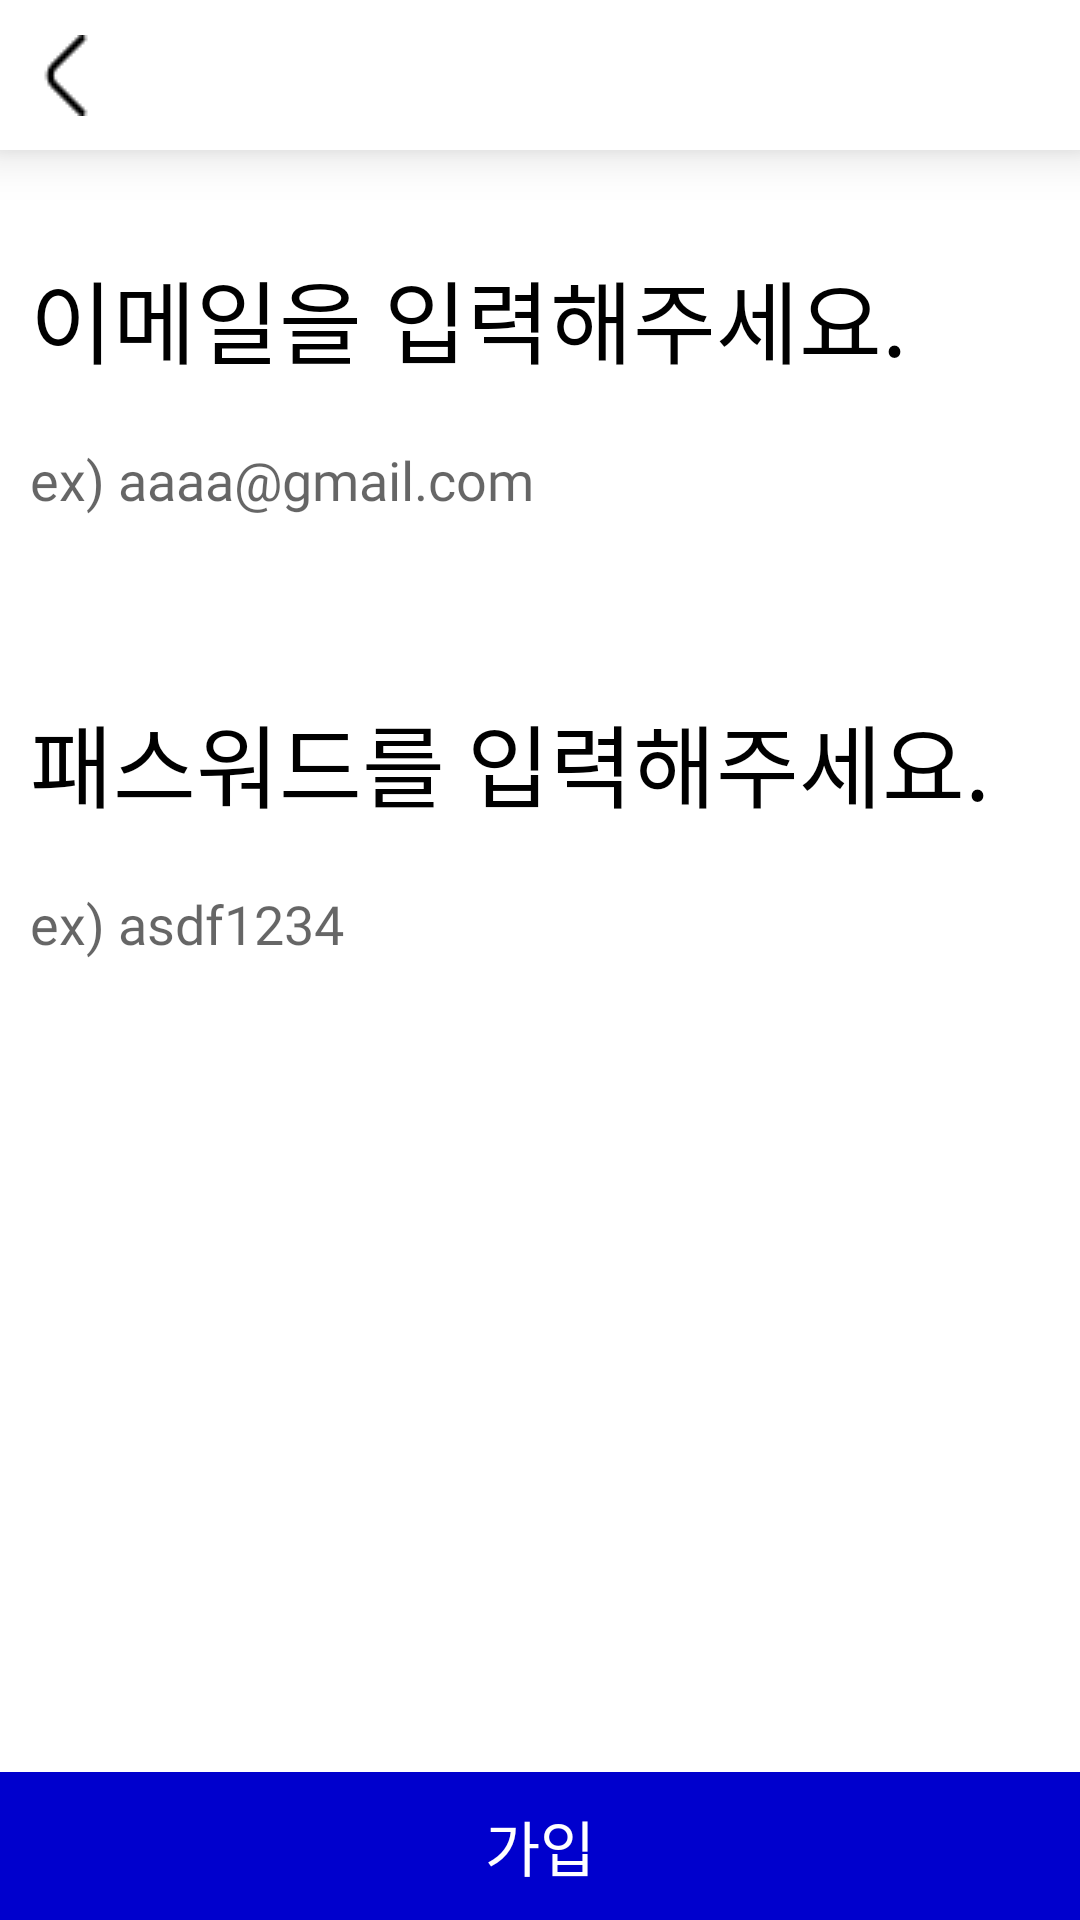

Icons on this 1080*1920 Android screen, each with its box as (x1, y1, x2, y2):
back: (44, 35, 88, 116)
